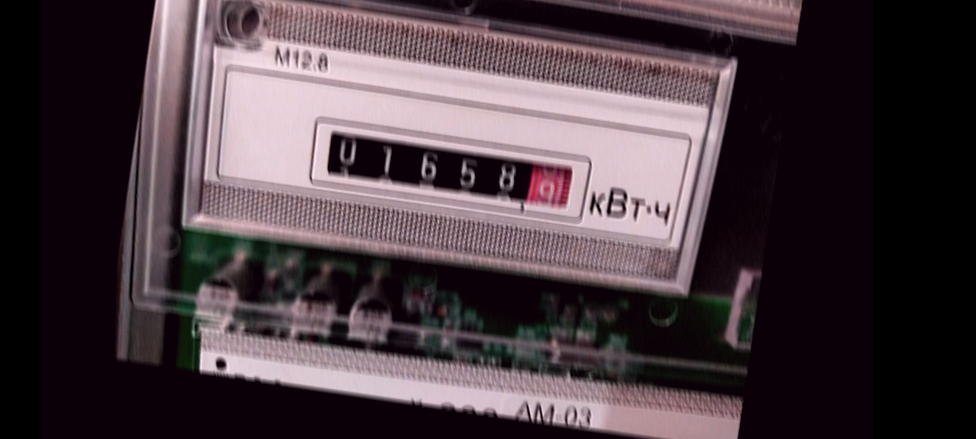0: (338, 133, 364, 168)
1: (381, 144, 399, 176)
5: (460, 156, 484, 191)
6: (421, 149, 445, 183)
8: (499, 160, 523, 194)
9: (538, 178, 559, 206)
screen: (302, 109, 601, 229)
